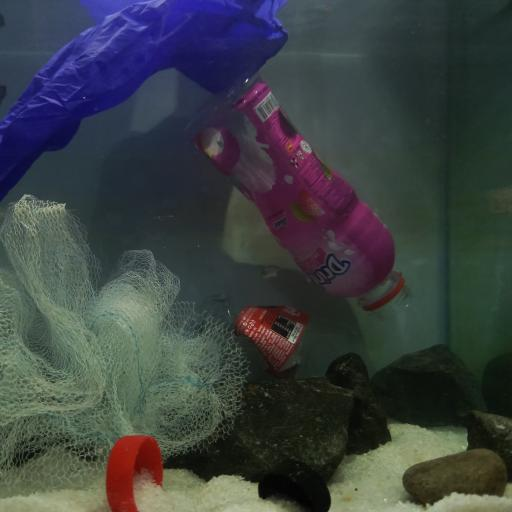bottle_cap: (105, 435, 164, 512), (258, 458, 332, 512)
glove: (0, 0, 289, 196)
net: (0, 192, 252, 484)
plastic_bottle: (186, 72, 414, 321), (193, 293, 335, 376)
